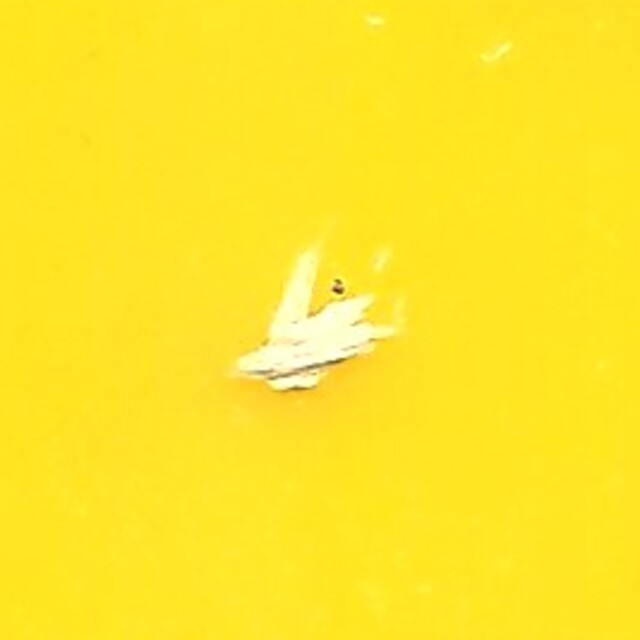Hemiptera: (240, 245, 400, 395)
